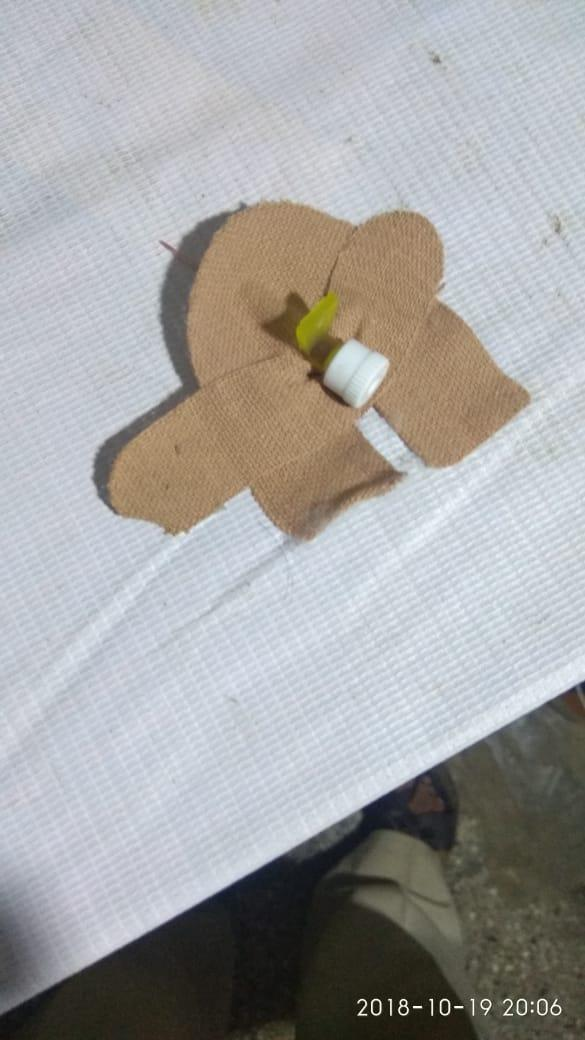waste: (102, 138, 524, 552)
